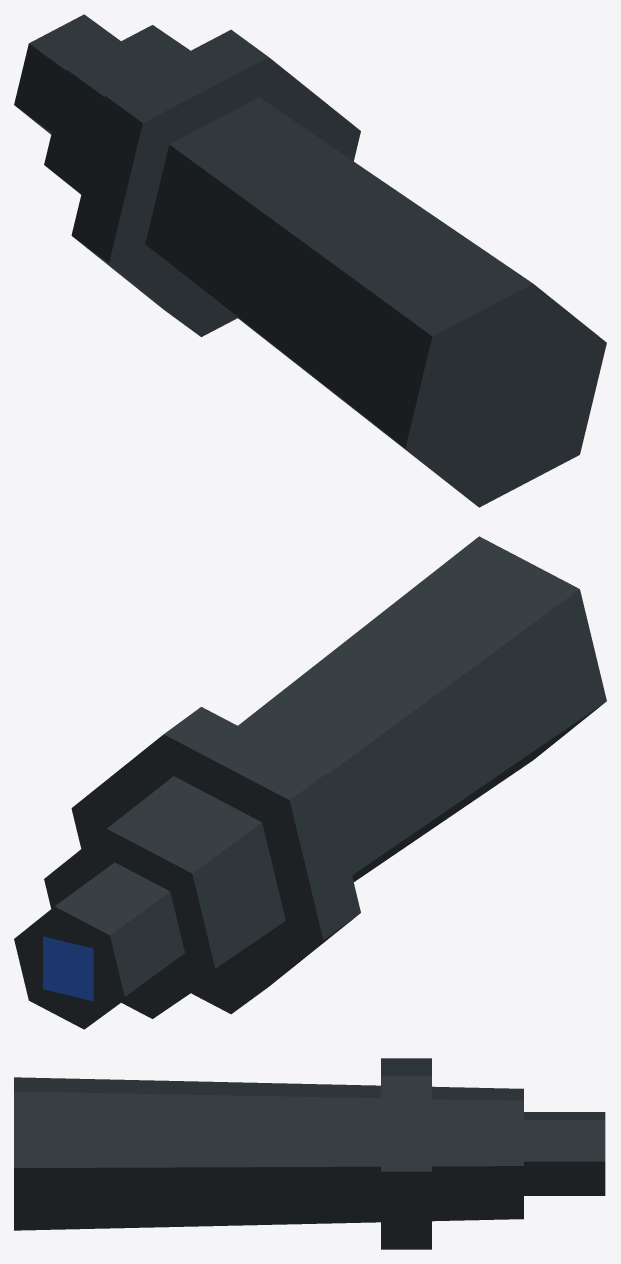
3 renders of one model, top to bottom at view 1: azimuth 30°, elevation 25°; view 2: azimuth 150°, elevation 25°; view 3: azimuth 270°, elevation 25°, orthographic. The views are drawn at different scales.
Parts seen in each view (by area): view 1: mount; view 2: mount; view 3: mount.
Part boxes in pixels (x1,y1,x2,y2): mount: (14,14,606,507); mount: (14,536,606,1029); mount: (14,1058,605,1249).
Bounding box in the file's own units: 3.86 × 3.86 × 11.63.
